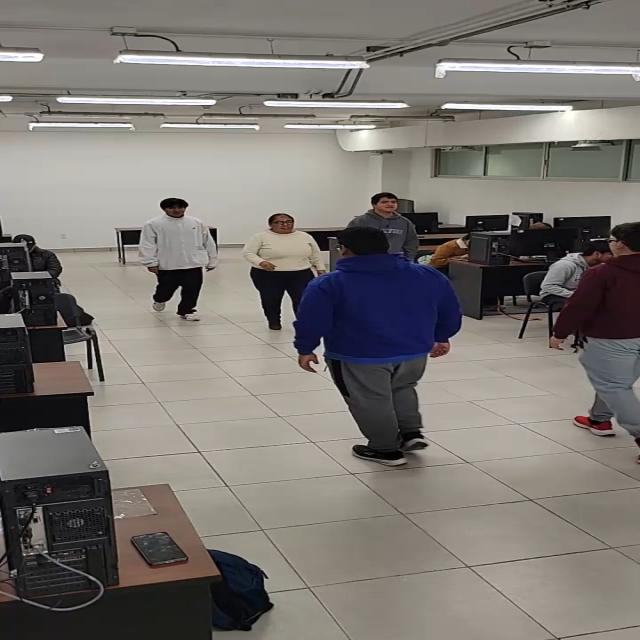Persona: (319, 228, 450, 469), (560, 220, 639, 440), (241, 210, 324, 332), (140, 198, 219, 322), (362, 193, 426, 262)
